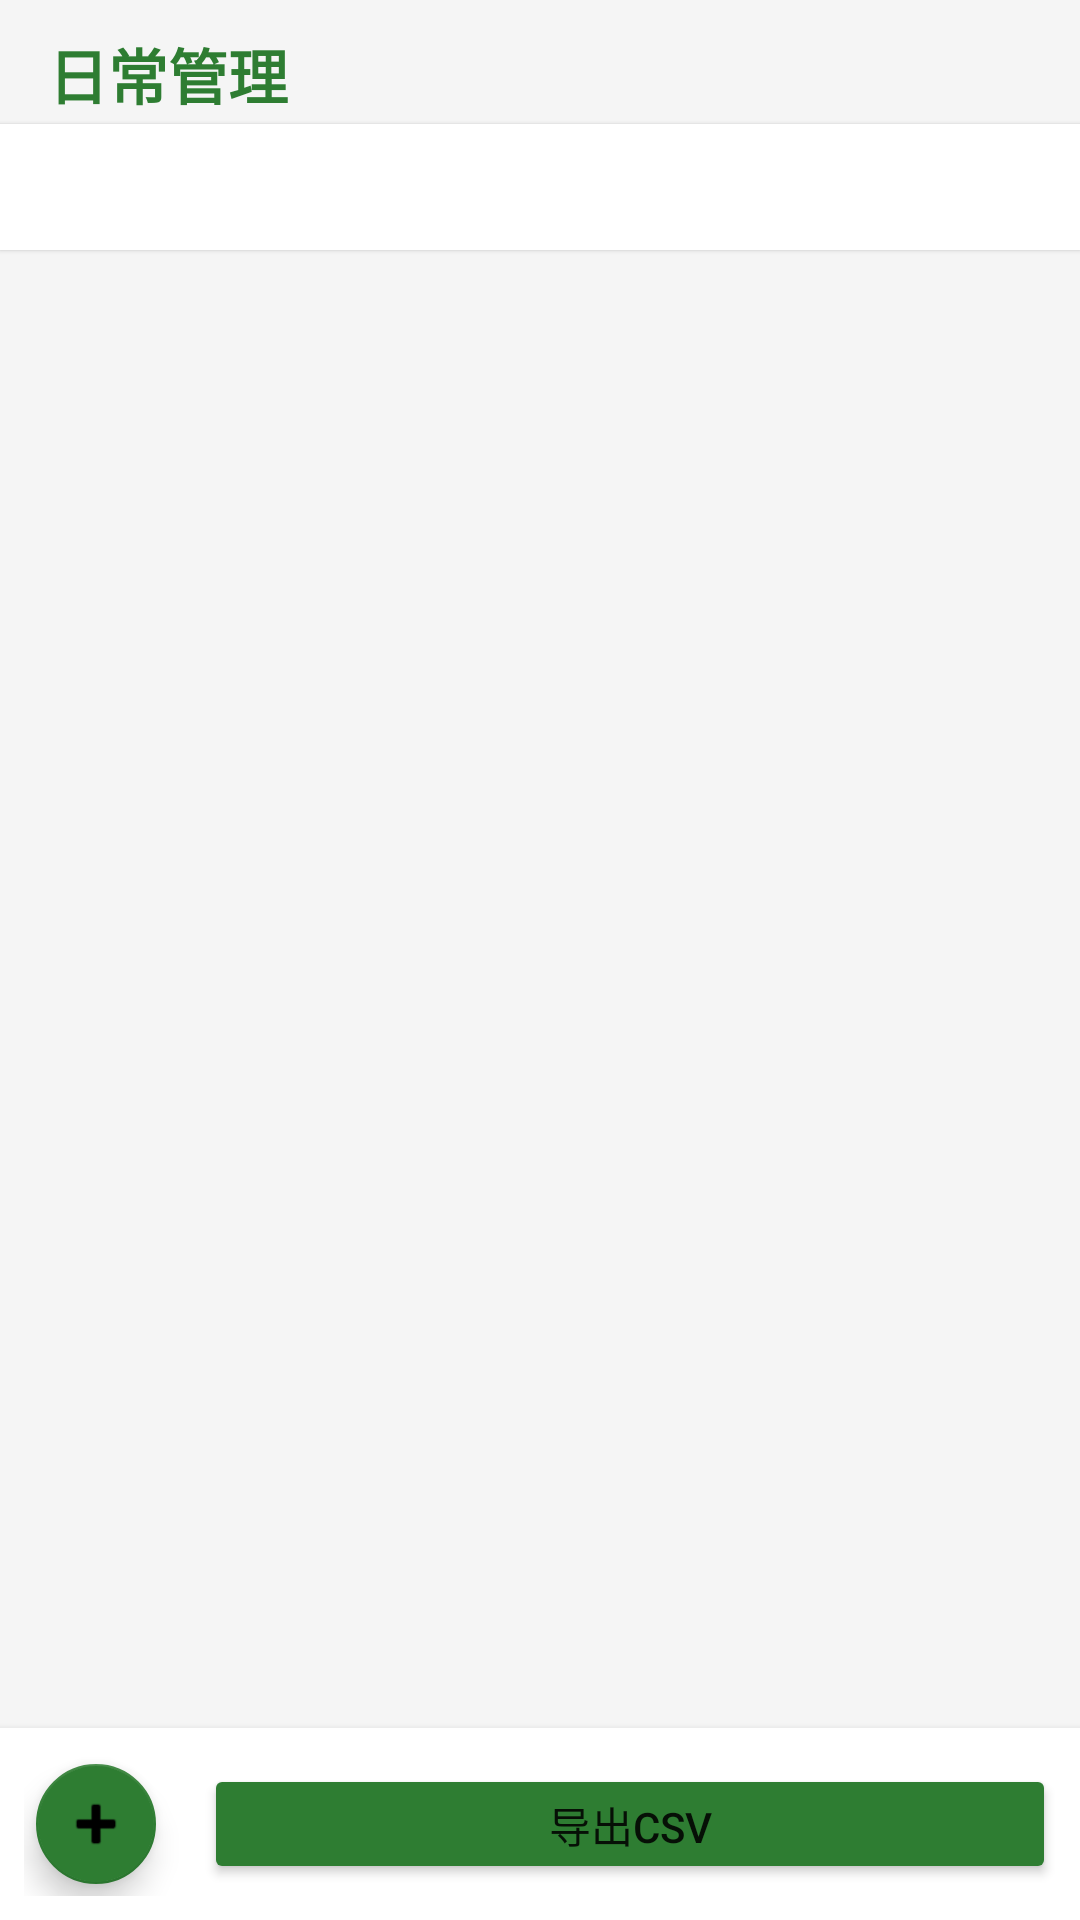

Icons on this 1080 x 1920 Android screen, each with the point to tap as [x,y]:
添加: [95,1830]
